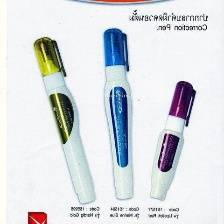correction_fluid: (30, 34, 98, 205), (100, 26, 139, 201), (148, 78, 199, 203)
